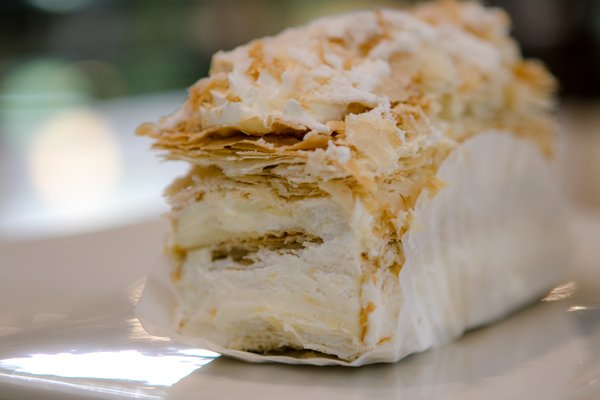sushi: (139, 4, 590, 367)
